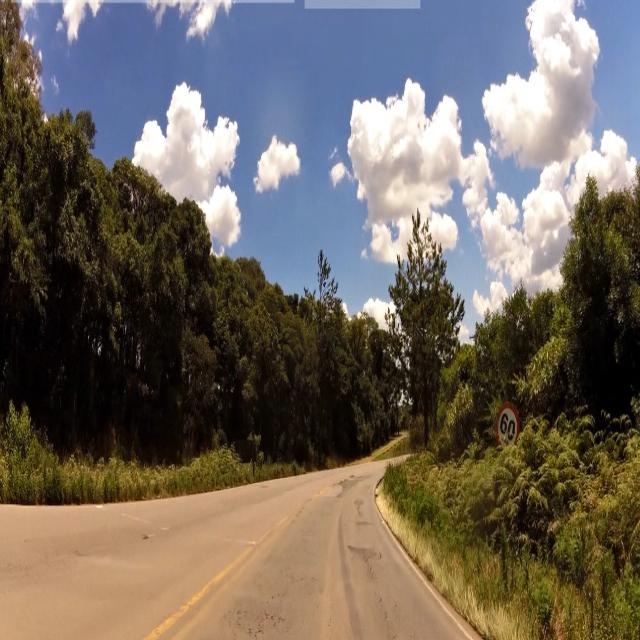R-19: (496, 400, 522, 454)
